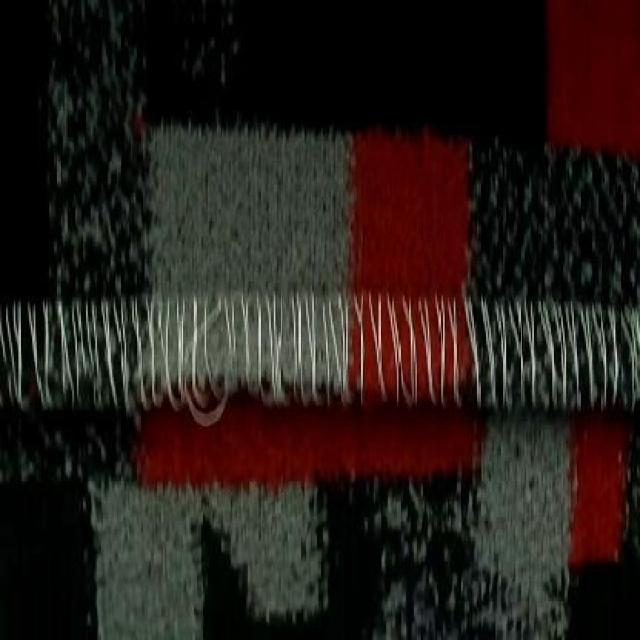gray stitch: (8, 293, 640, 425)
